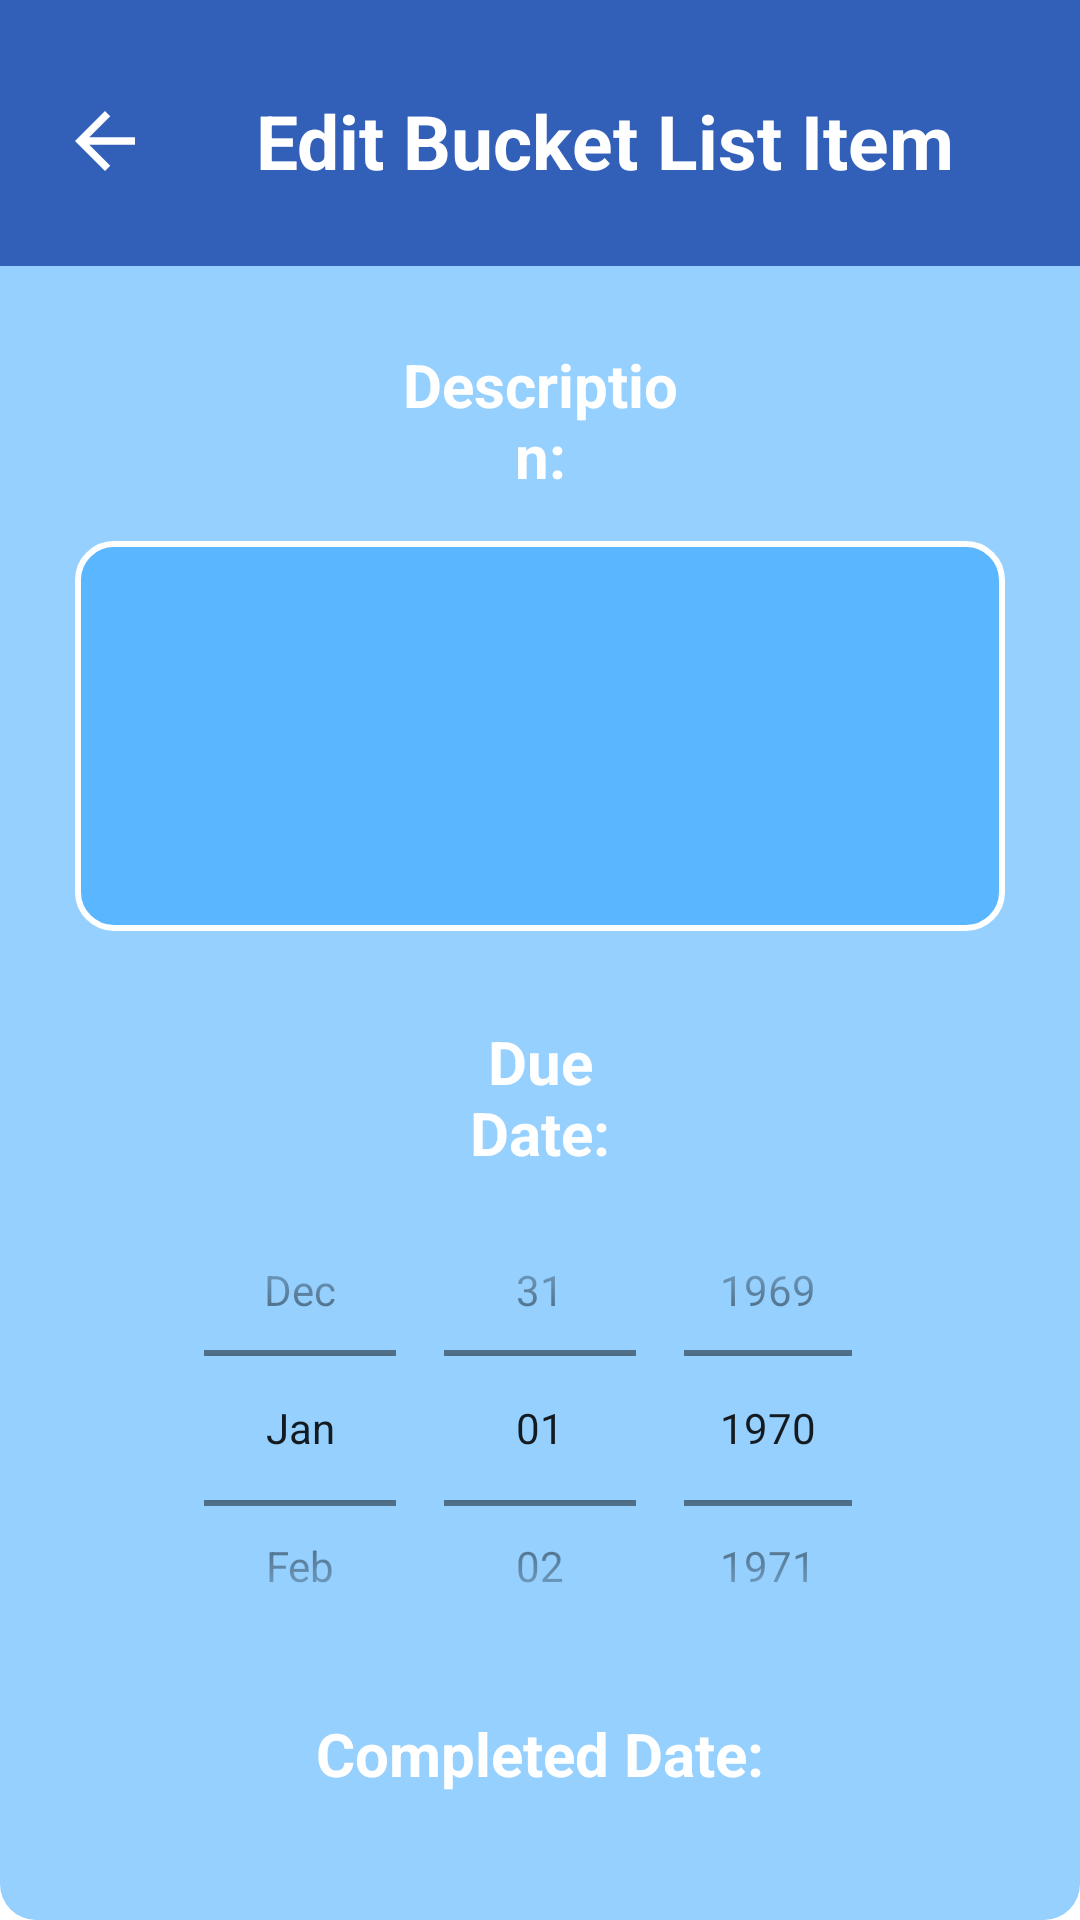

Point at icon controls on the screen. Image size 1080 x 1920, points as (x=x, y=y).
back arrow: (x=105, y=141)
